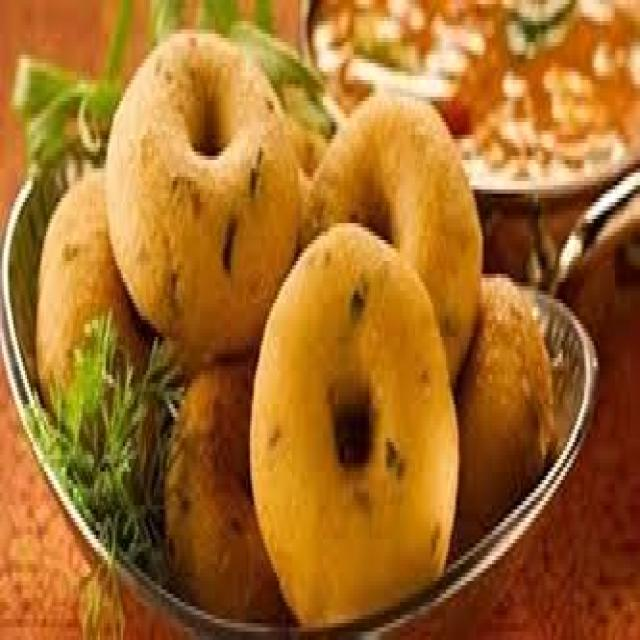MEDU VADA: (250, 222, 460, 628), (105, 20, 303, 346), (304, 89, 489, 385), (35, 164, 169, 465), (163, 348, 282, 624), (446, 264, 557, 558)
